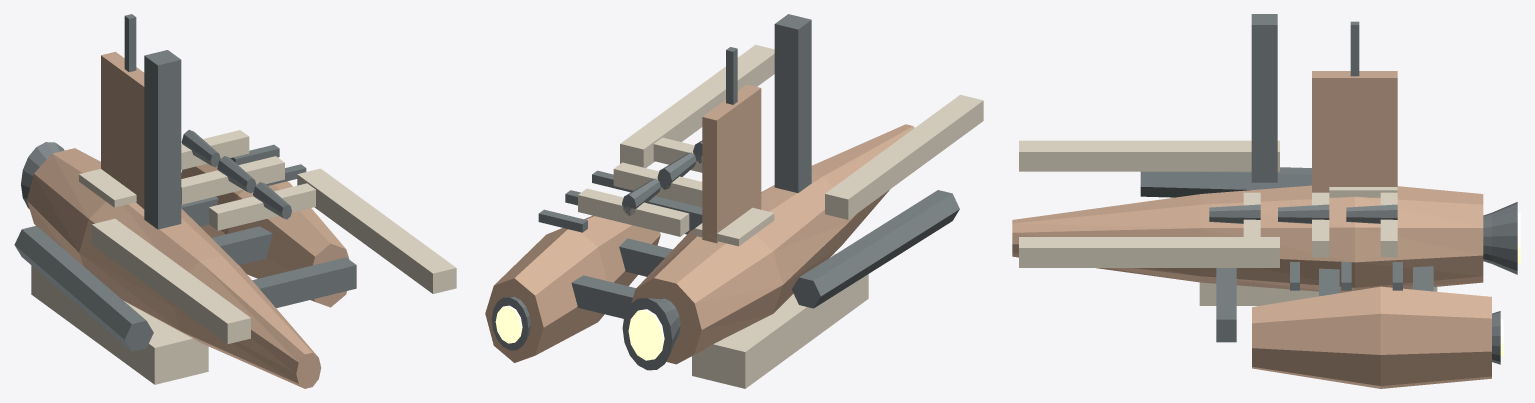
The picture shows the model from 3 angles, left to right: view 1: azimuth 30°, elevation 25°; view 2: azimuth 150°, elevation 25°; view 3: azimuth 270°, elevation 25°; orthographic projection. The views are drawn at different scales.
Size of the model in its own units: 6.14 by 6.03 by 9.35.
